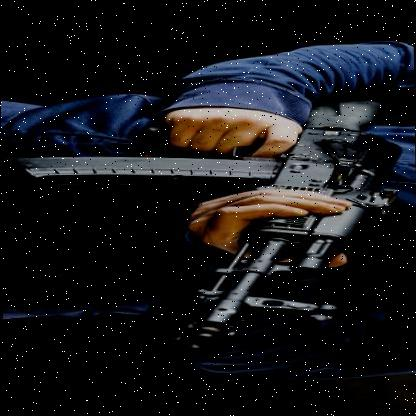rifle: (25, 84, 400, 351)
